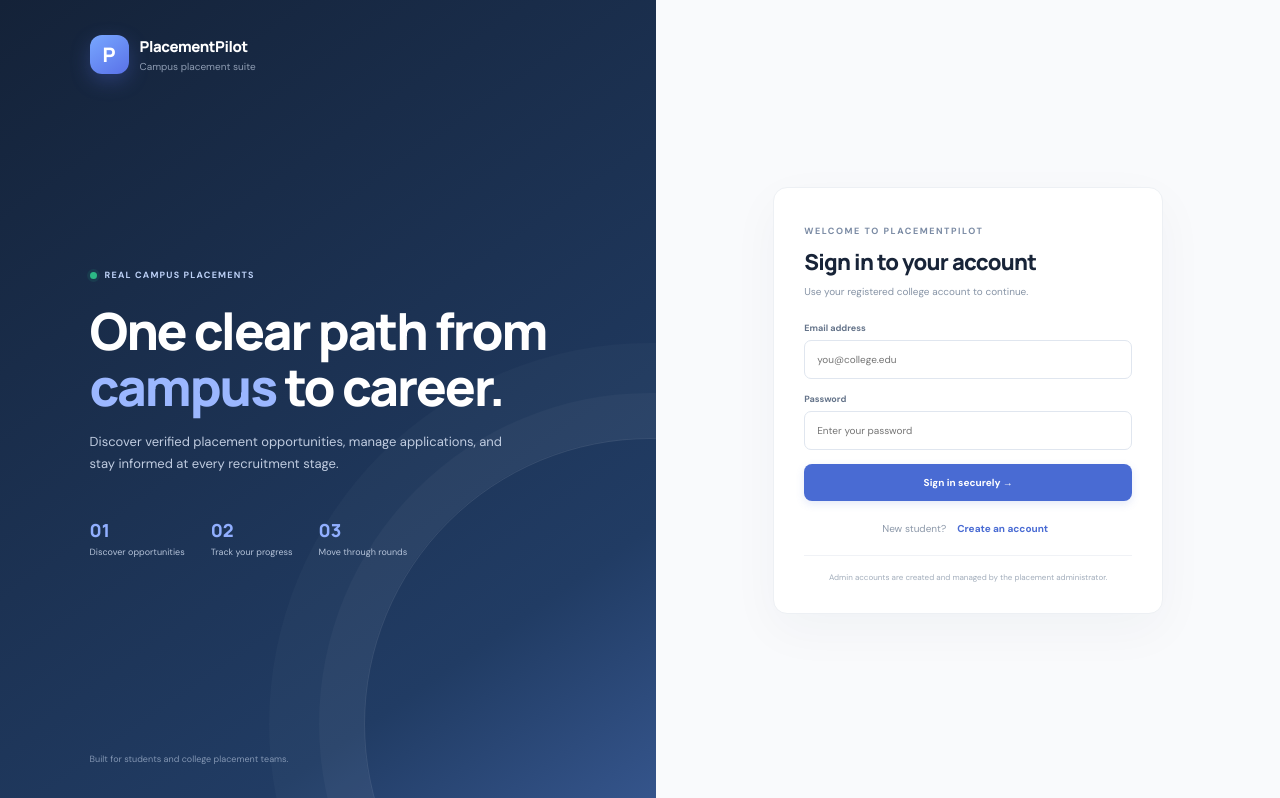
Scenario: PlacementPilot application flows (API mocked) › enforces signup password length and submits student registration
Click the button "Create an account": (1003, 528) [951,520,1054,536]
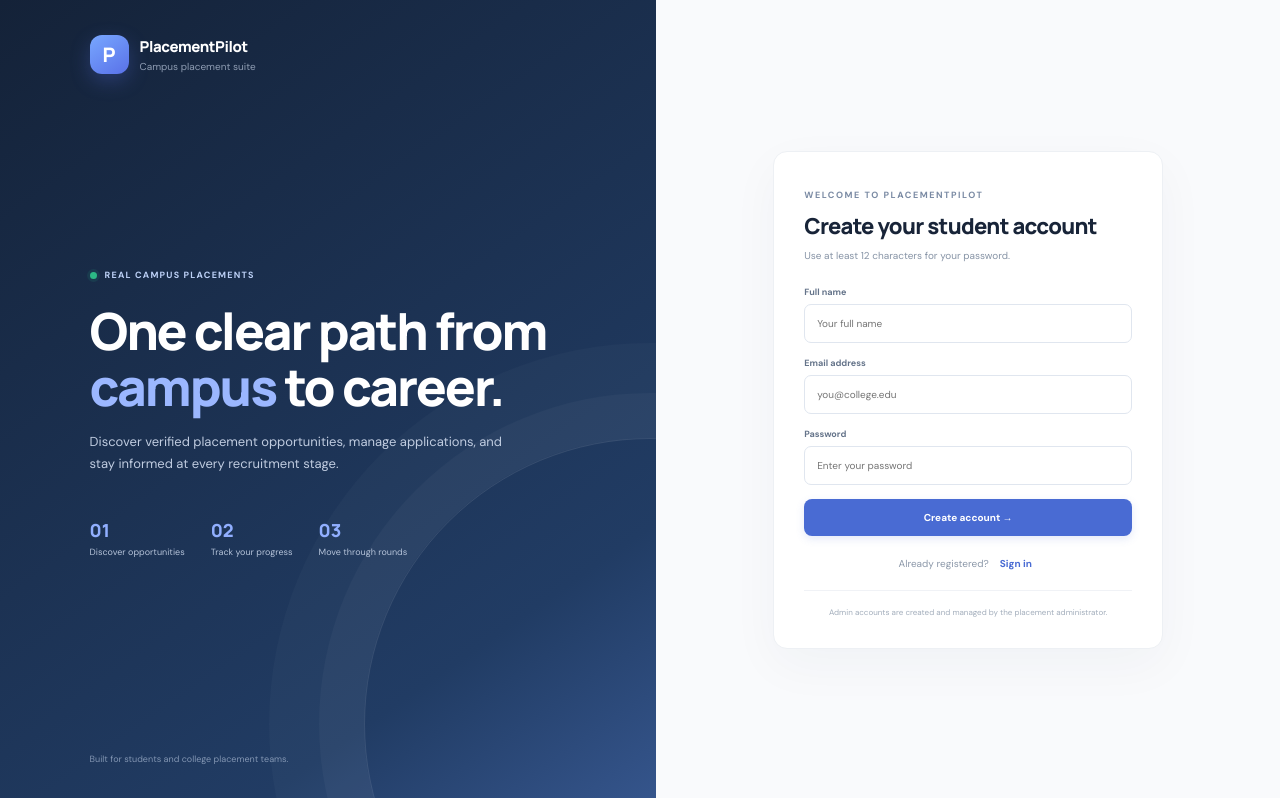
Expected: the heading "Create your student account" is shown, [804,211,1132,241]
In the field labelled "Full name": (968, 324) [804,304,1132,343], type "New Student"
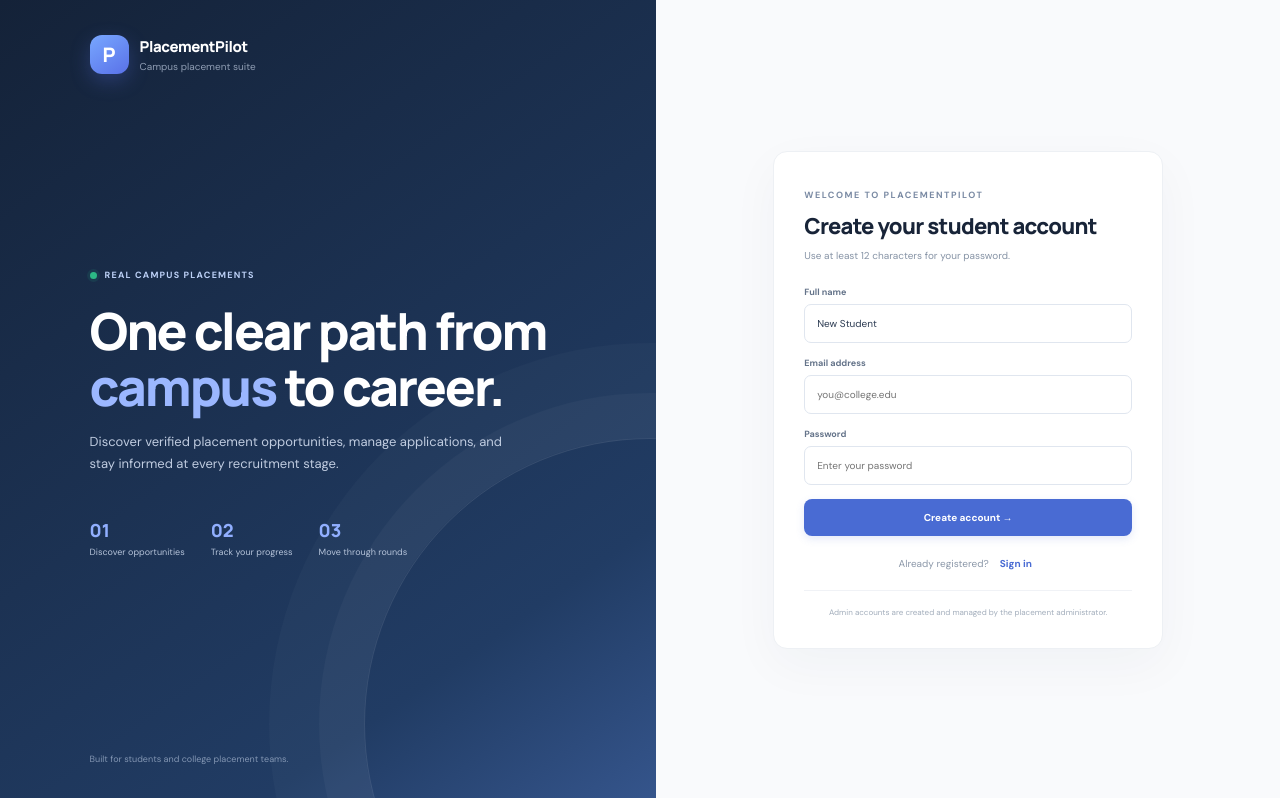
In the field labelled "Email address": (968, 394) [804,375,1132,414], type "new@example.test"
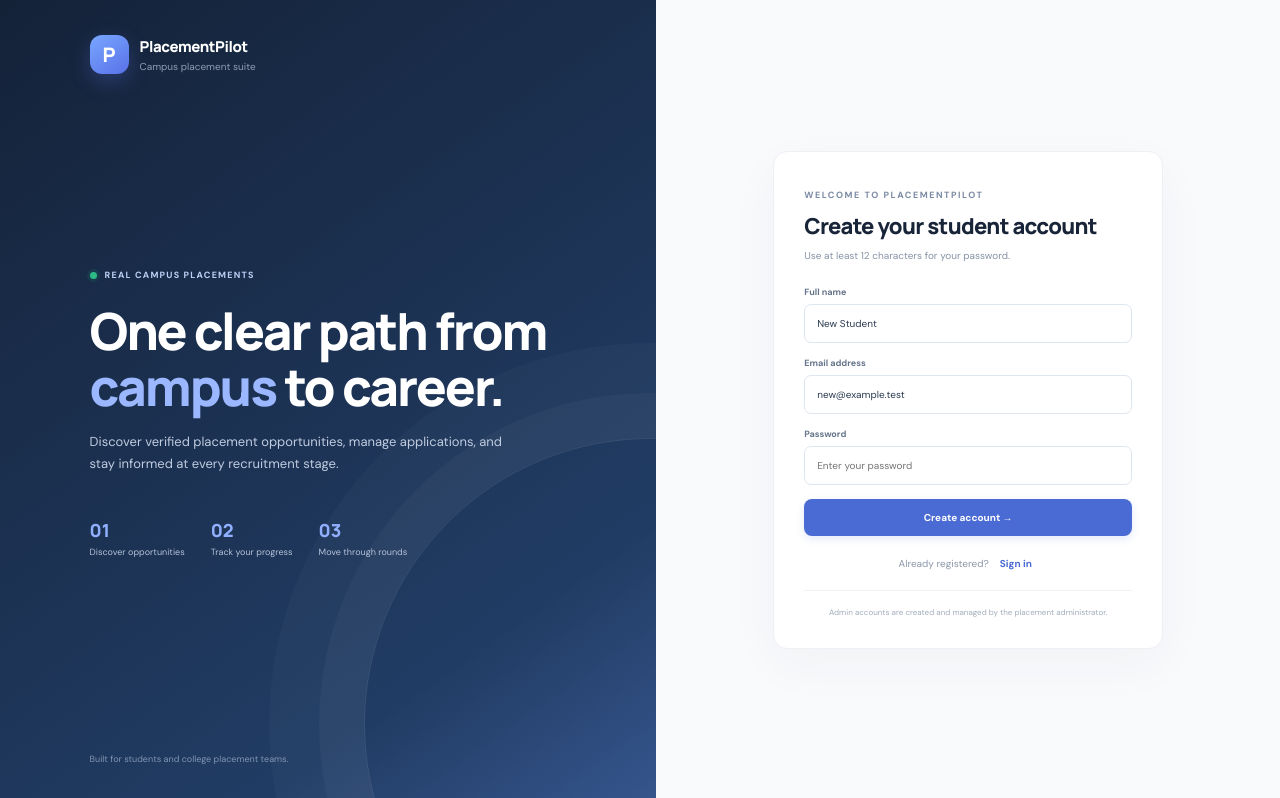
In the password field labelled "Password": (968, 466) [804,446,1132,485], type "ValidTestPass123!"
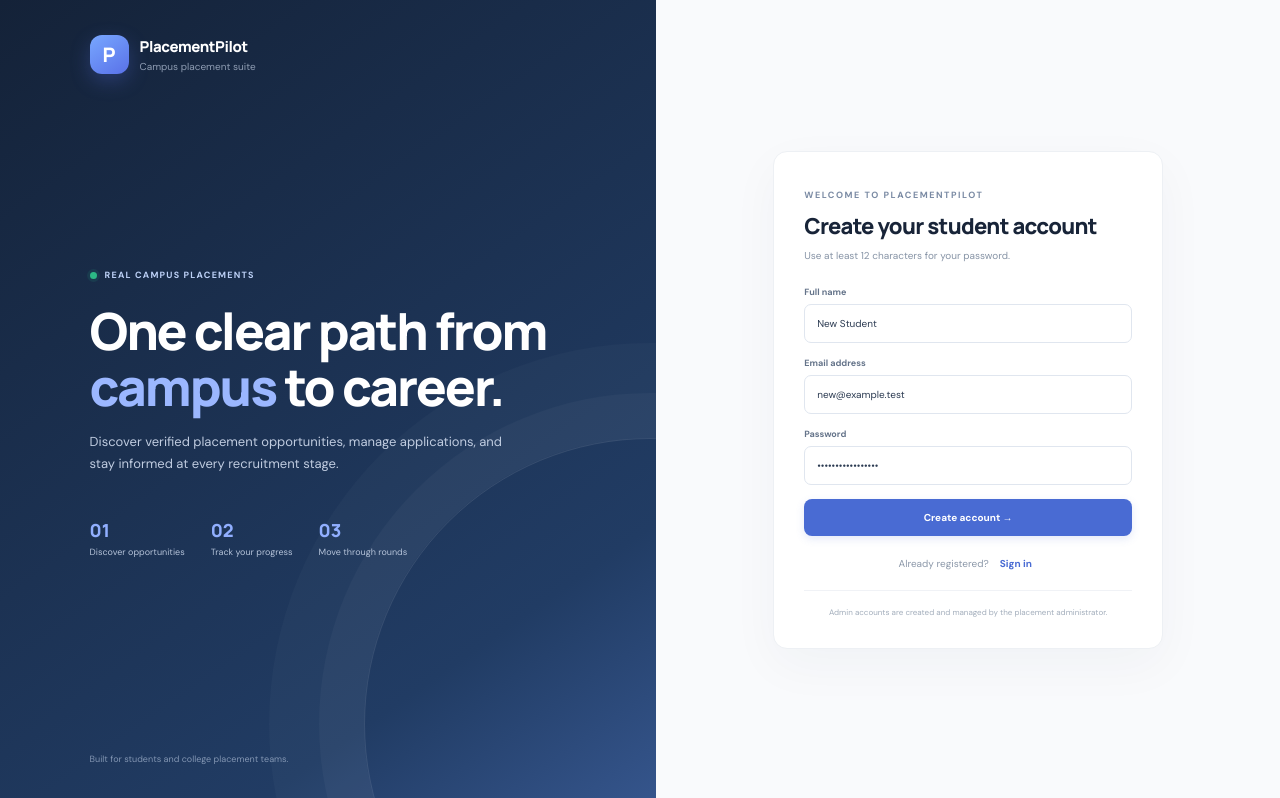
Click the button "Create account →": (968, 518) [804,499,1132,536]
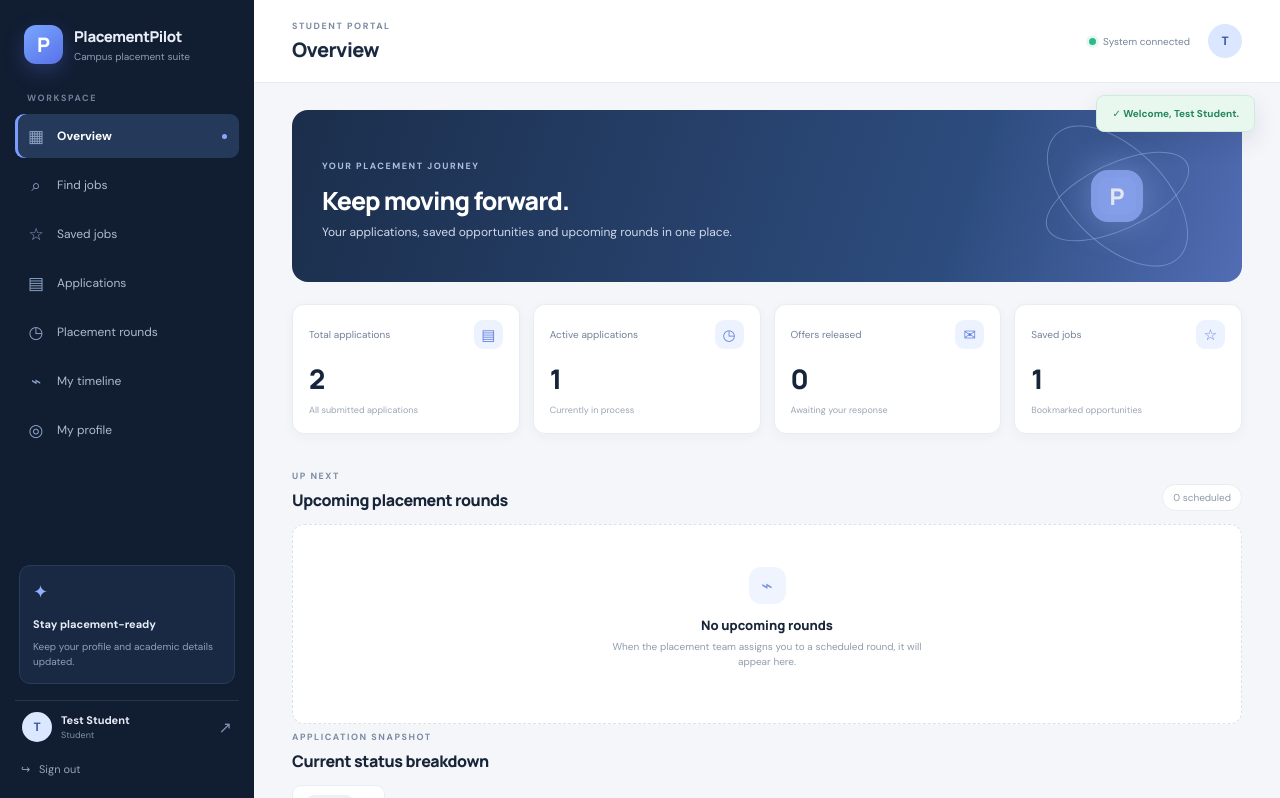
Expected: the heading "Keep moving forward." is shown, [322,182,569,218]
